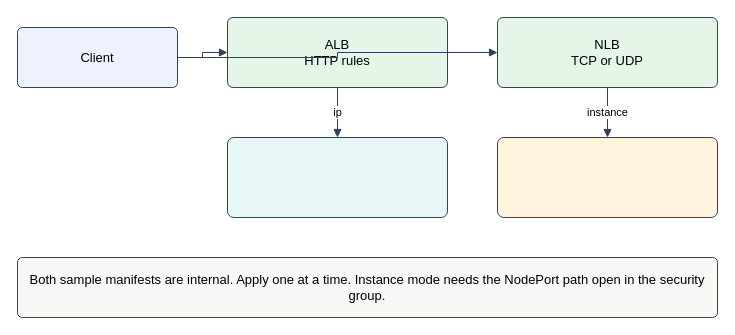
Some shapes in this 735 by 335 pixel diagram are drawn without their labels. Each missing label, with the centre of its shape:
target-type instance node IP and NodePort: point 607,177
target-type ip pod IP and port: point 337,177
